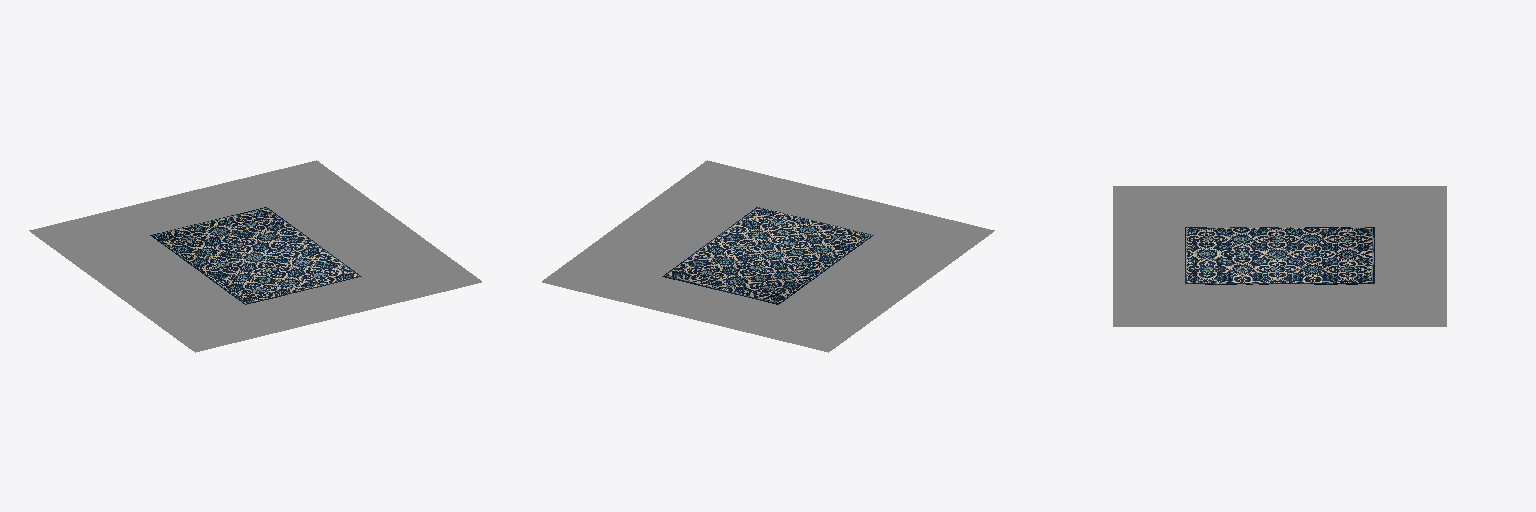
3 views of the same model, side by side, from view 1: azimuth 30°, elevation 25°; view 2: azimuth 150°, elevation 25°; view 3: azimuth 270°, elevation 25° (orthographic).
Parts seen in each view (by area): view 1: shadow_plane_v6, not_clear_obj_0_v6; view 2: shadow_plane_v6, not_clear_obj_0_v6; view 3: shadow_plane_v6, not_clear_obj_0_v6.
Part boxes in pixels (x1,y1,x2,y2): shadow_plane_v6: (29,160,481,352); not_clear_obj_0_v6: (150,207,361,304); shadow_plane_v6: (542,160,994,352); not_clear_obj_0_v6: (662,207,873,304); shadow_plane_v6: (1113,186,1446,326); not_clear_obj_0_v6: (1185,227,1374,284).
Bounding box in the file's own units: 396 × 1.27 × 396.
2 materials, 1 textured.